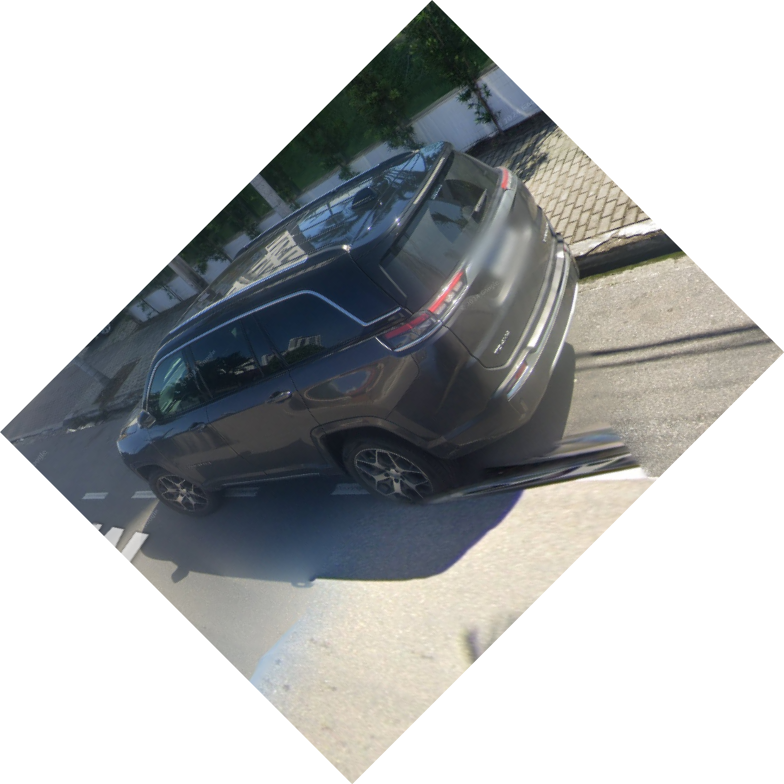car: (115, 140, 584, 522)
